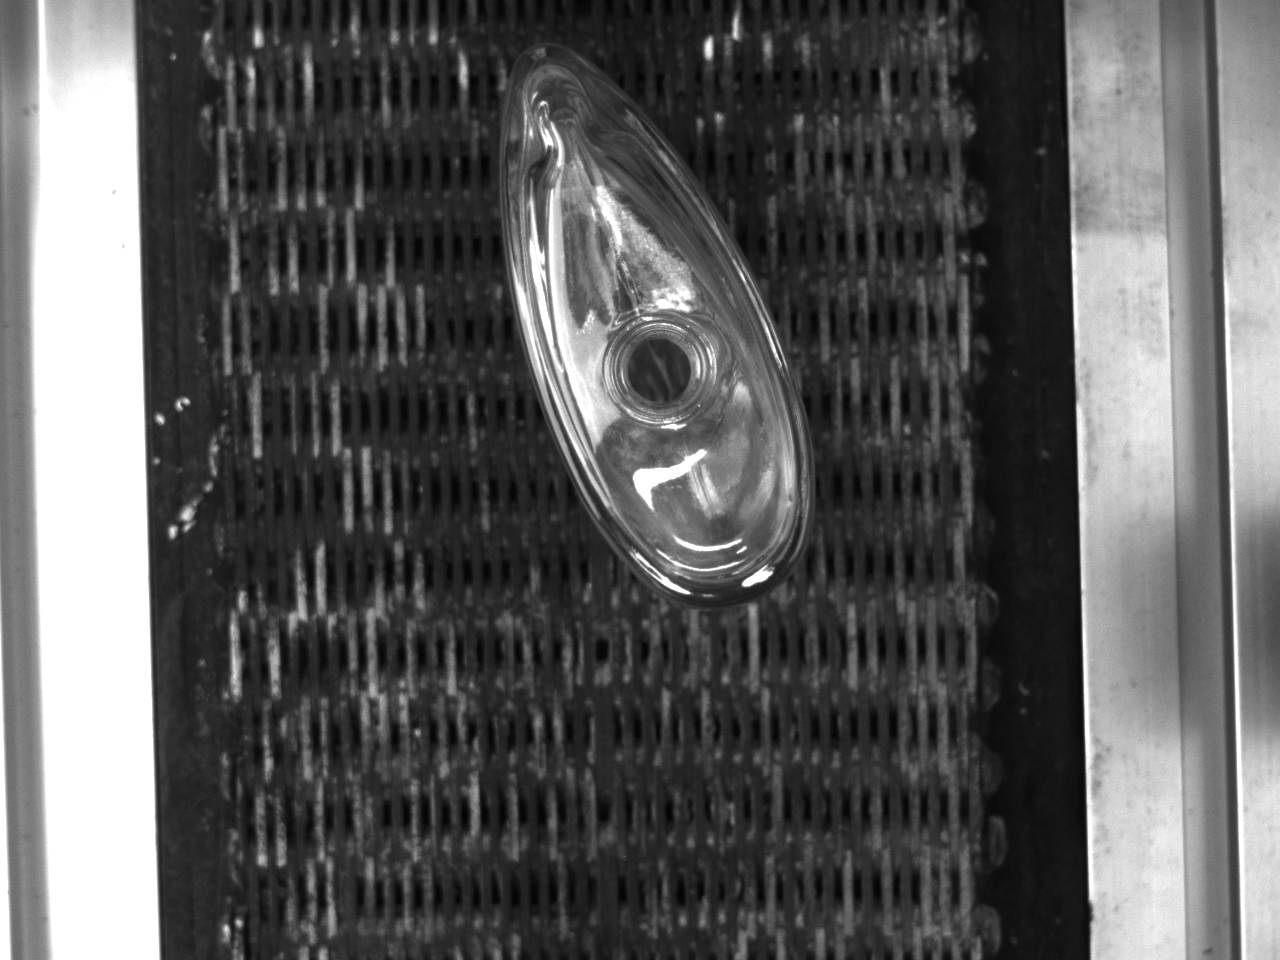bottleneck: (603, 311, 719, 426)
